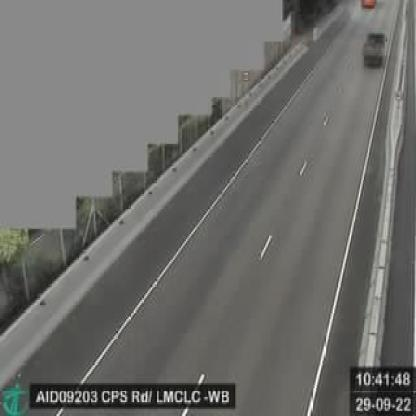Car: (359, 30, 394, 68)
